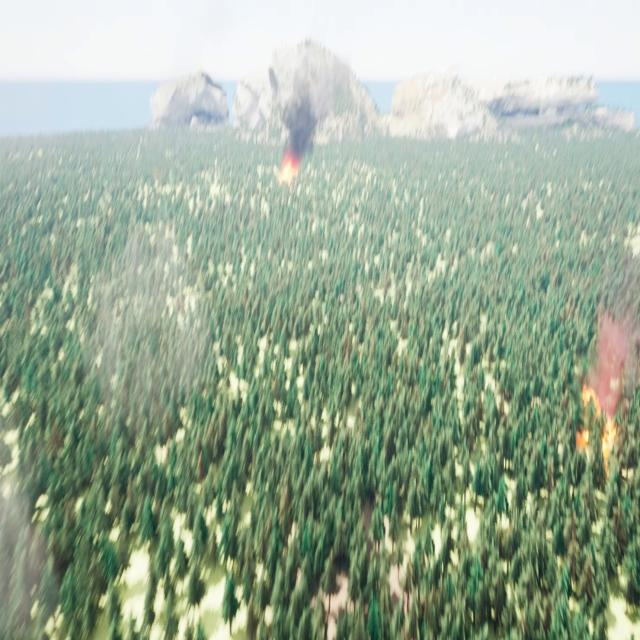fire: (576, 384, 618, 477), (275, 155, 301, 187)
smoke: (80, 210, 209, 430), (0, 474, 60, 639), (282, 57, 344, 158), (590, 305, 639, 408)
